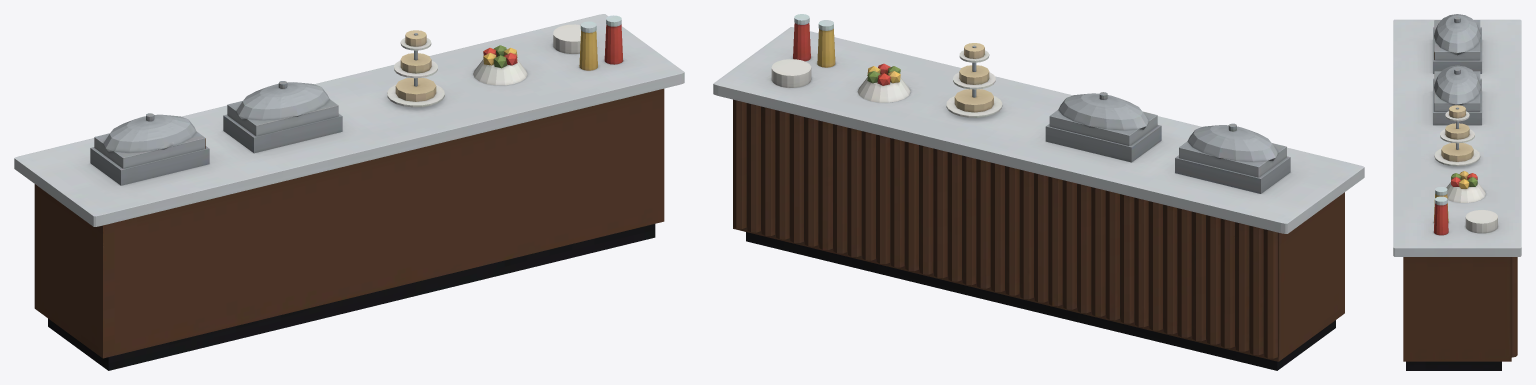
The model's file is breakfast_buffet.glb.
The picture shows the model from 3 angles, left to right: view 1: azimuth 30°, elevation 25°; view 2: azimuth 150°, elevation 25°; view 3: azimuth 270°, elevation 25°; orthographic projection. The views are drawn at different scales.
Parts seen in each view (by area): view 1: breakfast_buffet; view 2: breakfast_buffet; view 3: breakfast_buffet.
Boxes of the visible parts, <box> form: breakfast_buffet: <box>14,14,684,370</box>; breakfast_buffet: <box>713,14,1364,370</box>; breakfast_buffet: <box>1393,14,1521,370</box>.
Size of the model in its own units: 4 by 1.49 by 0.9498.
1 material, 1 textured.
